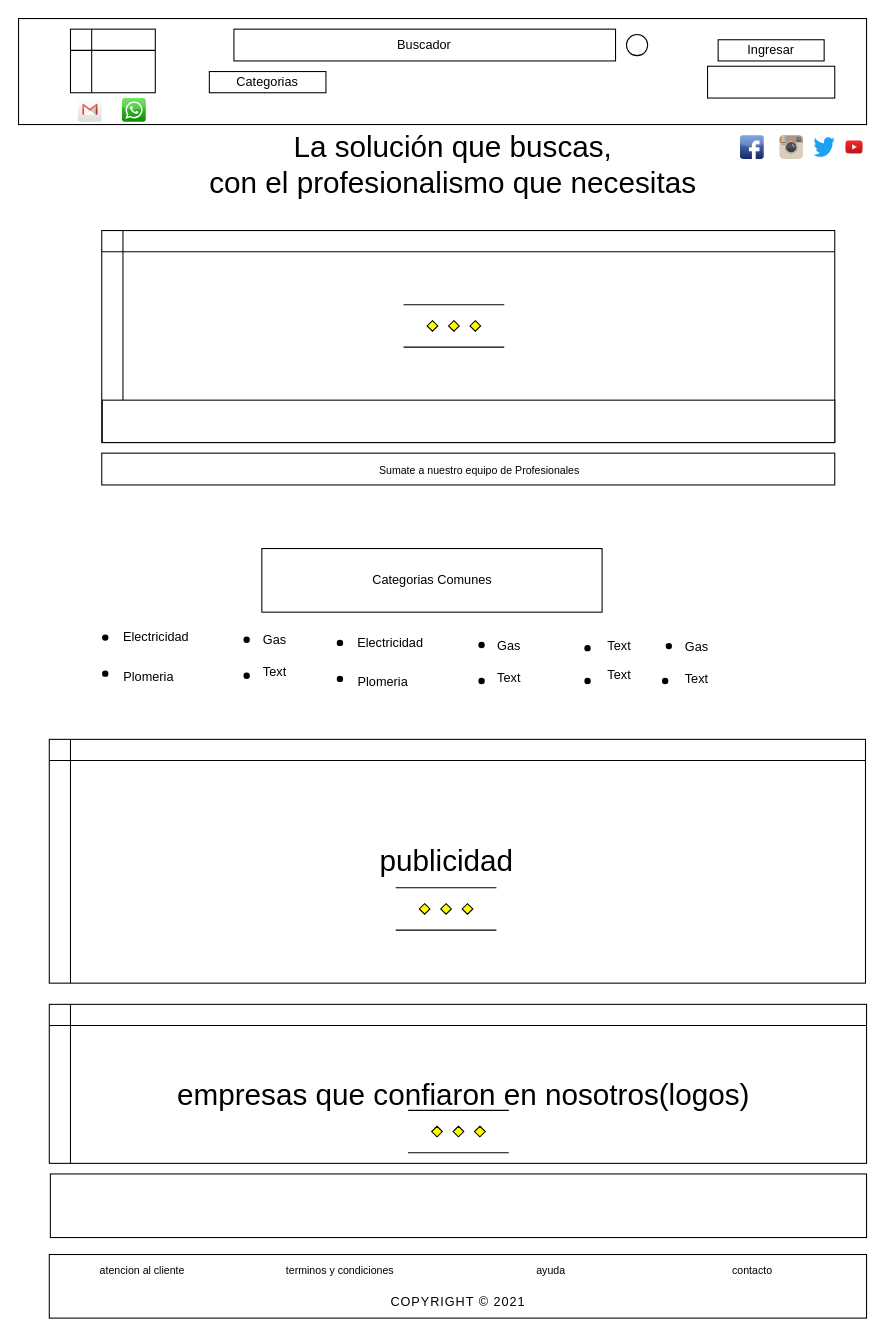
Some shapes in this 885 by 1337 pixel diagram are drawn without their labels. Each missing label, with the box of its shape:
carrito: (706, 65, 835, 98)
Servicios: (101, 399, 835, 443)
Servicios para empresas y Pymes: (49, 1173, 867, 1238)
